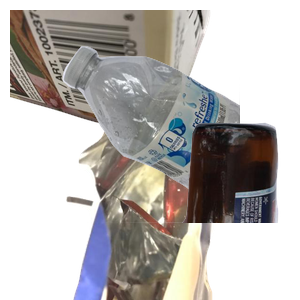cardboard: (10, 10, 213, 146)
glass: (87, 120, 300, 300)
plastic: (60, 44, 300, 224)
trash: (63, 120, 300, 300)
